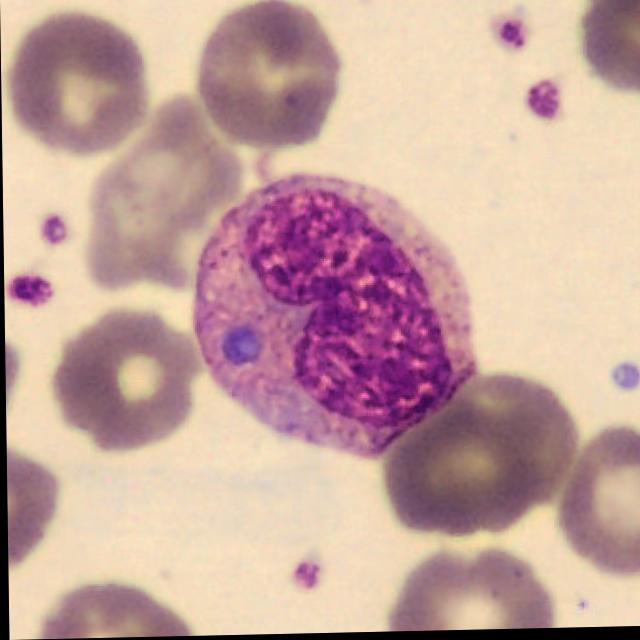Metamielocito: (192, 176, 478, 459)
